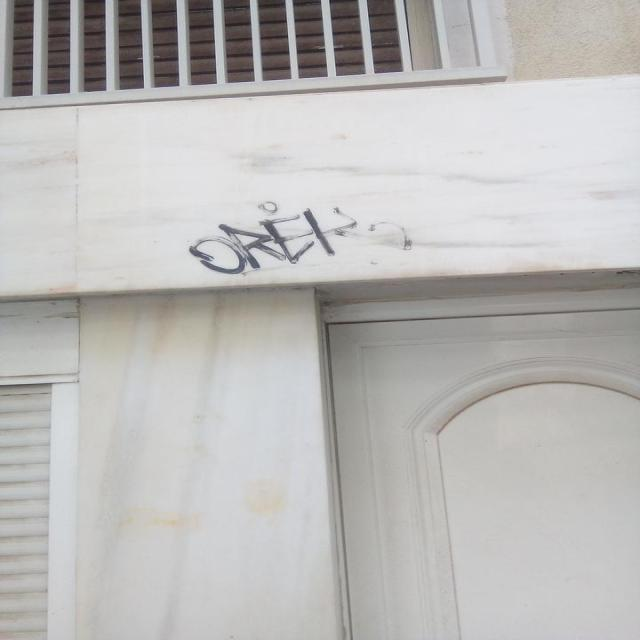nonspitting: (188, 204, 416, 275)
